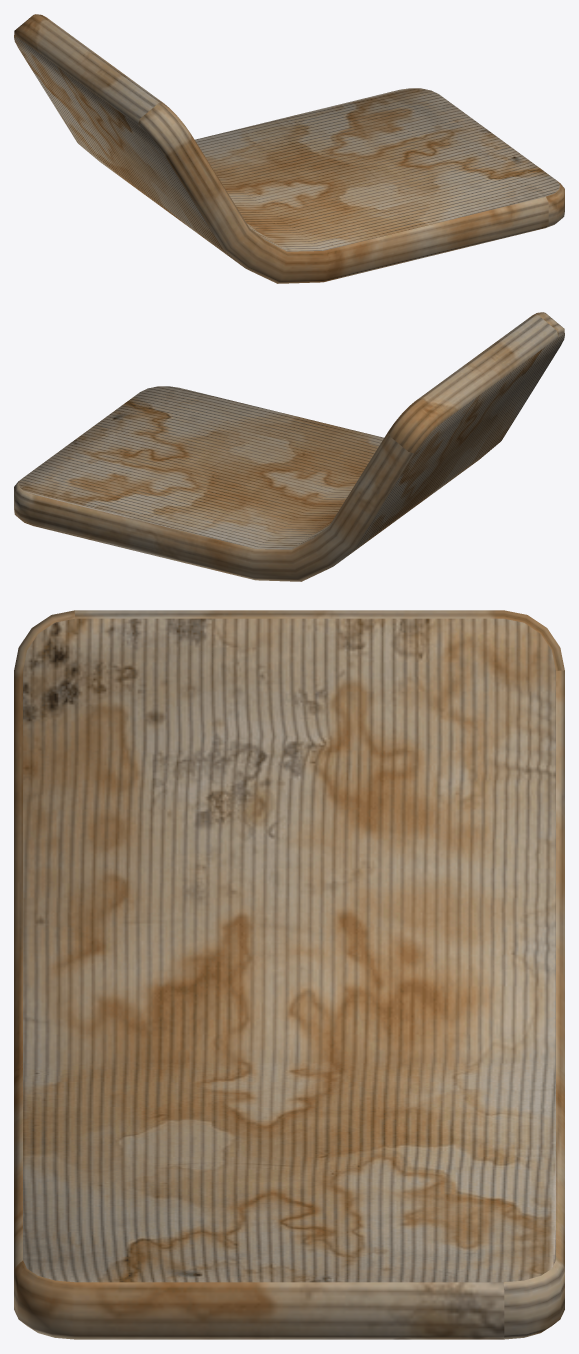
Rendered from mattress2.fbx.
3 renders of one model, top to bottom at view 1: azimuth 30°, elevation 25°; view 2: azimuth 150°, elevation 25°; view 3: azimuth 270°, elevation 25°, orthographic. The views are drawn at different scales.
Visible parts, largest first — view 1: mattress2; view 2: mattress2; view 3: mattress2.
Part boxes in pixels (left/top/right/bottom): mattress2: left=14, top=14, right=564, bottom=283; mattress2: left=14, top=312, right=564, bottom=581; mattress2: left=14, top=610, right=564, bottom=1339.
Bounding box in the file's own units: 1.82 × 0.8453 × 1.13.
1 material, 1 textured.
